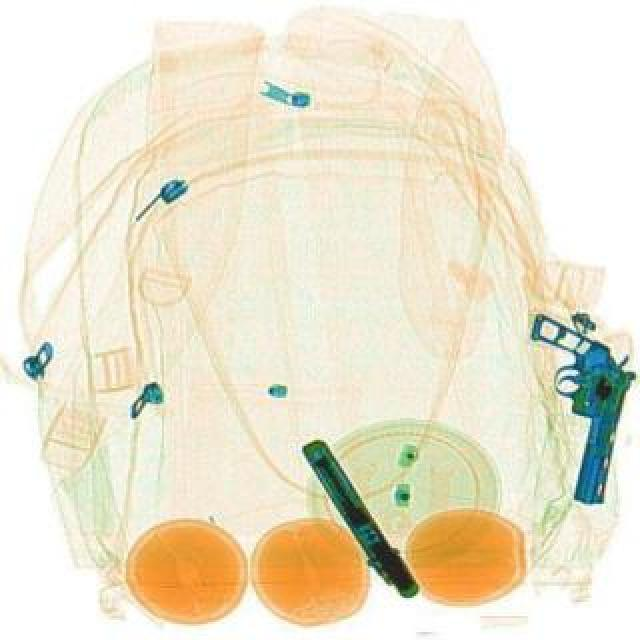gun: (492, 308, 636, 506), (290, 432, 422, 604)
